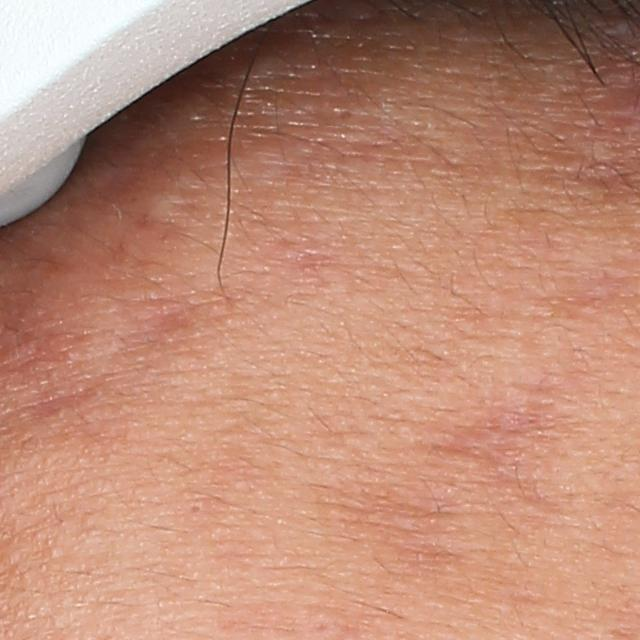comedo: (188, 501, 205, 517)
